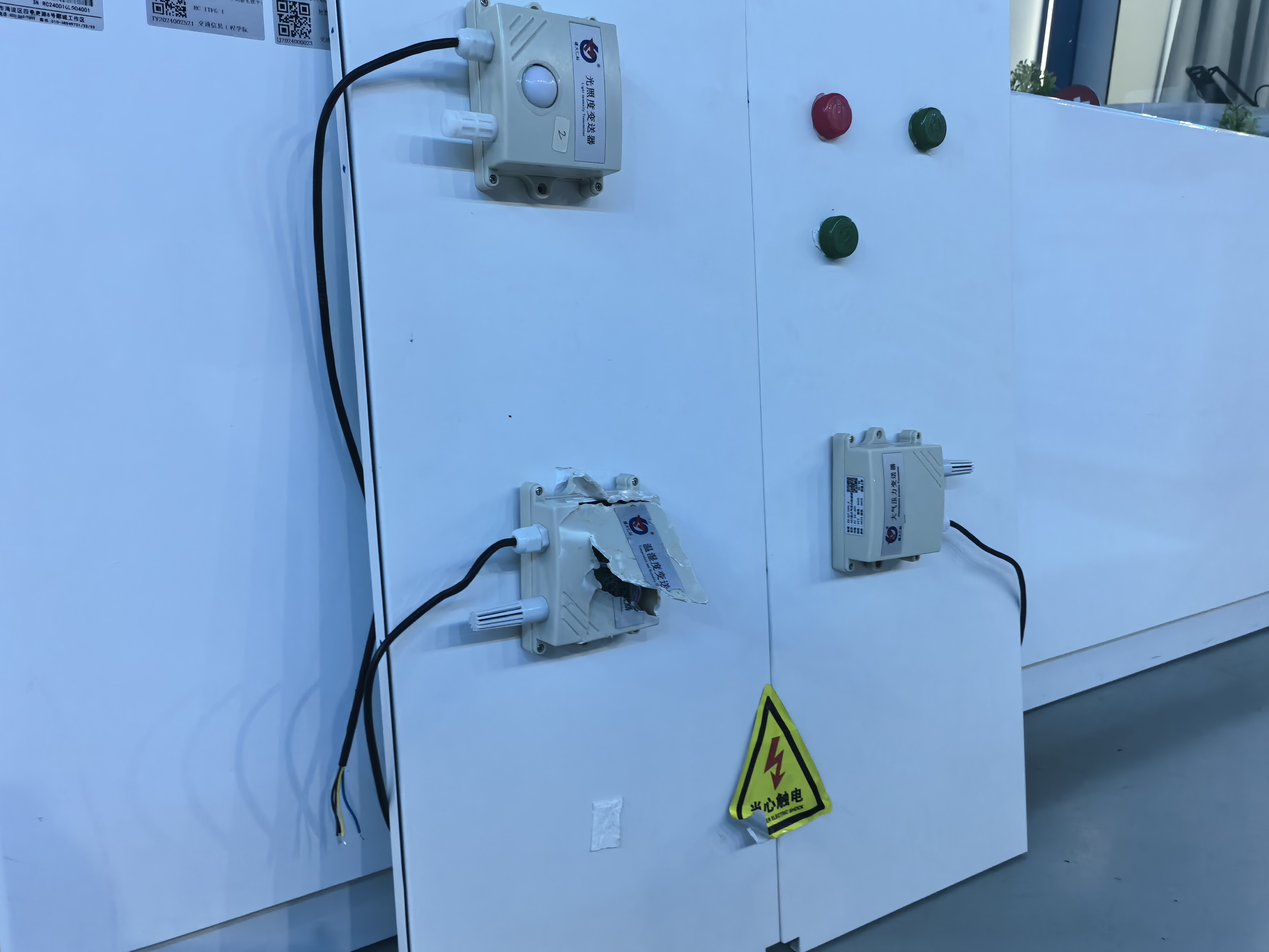red_warning: (792, 69, 869, 153)
sensor_damage: (455, 437, 726, 682)
